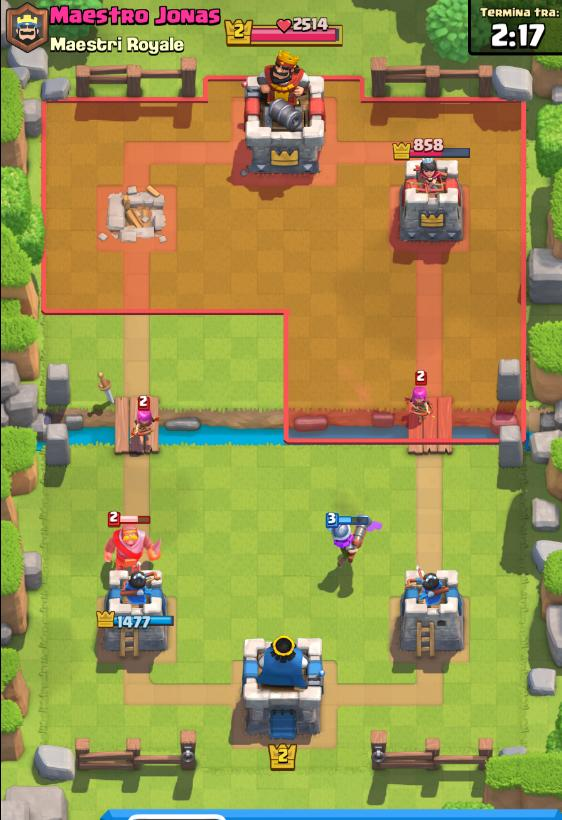ally_musketeer: (325, 510, 375, 565)
enemy_archer: (132, 396, 156, 440), (410, 371, 433, 415)
enemy_knight: (95, 512, 163, 578)
